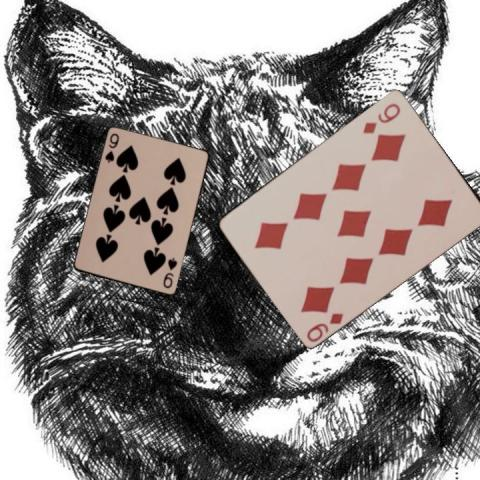9d: (359, 99, 402, 135), (304, 310, 346, 344)
9s: (160, 255, 179, 290), (102, 130, 121, 165)
